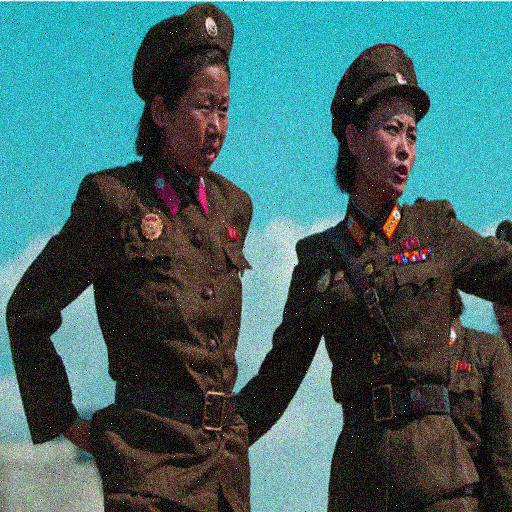north army: (15, 14, 512, 511)
